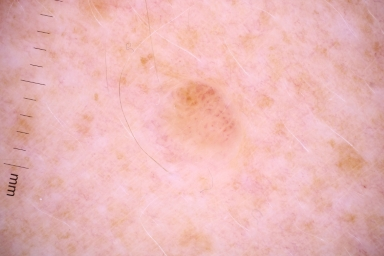melanoma: (168, 79, 237, 147), (331, 141, 373, 180), (171, 228, 215, 256)
